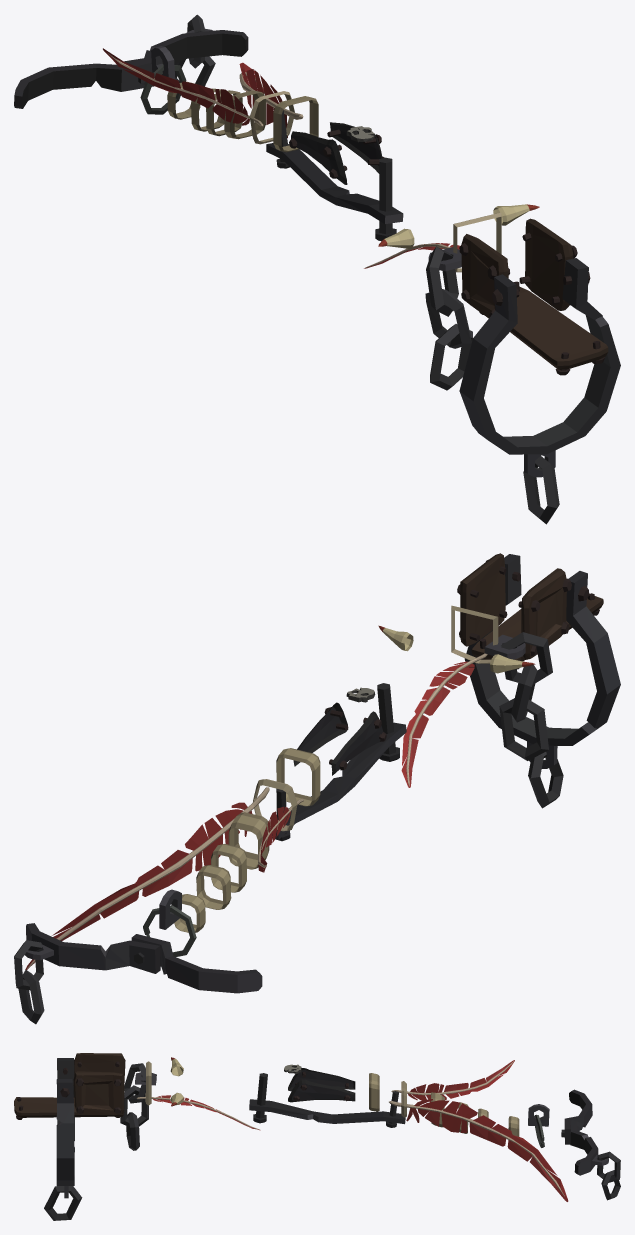
Rendered from repeatingCrossbowFearlessHandle.glb.
The picture shows the model from 3 angles, top to bottom: view 1: azimuth 30°, elevation 25°; view 2: azimuth 150°, elevation 25°; view 3: azimuth 270°, elevation 25°; orthographic projection. The views are drawn at different scales.
Parts seen in each view (by area): view 1: repeatingCrossbowFearlessHandle; view 2: repeatingCrossbowFearlessHandle; view 3: repeatingCrossbowFearlessHandle.
Boxes of the visible parts, x1,y1,x2,y2 form: repeatingCrossbowFearlessHandle: (14,14,620,524); repeatingCrossbowFearlessHandle: (14,553,620,1024); repeatingCrossbowFearlessHandle: (14,1053,620,1220).
Size of the model in its own units: 0.2871 by 0.2855 by 0.9796.
